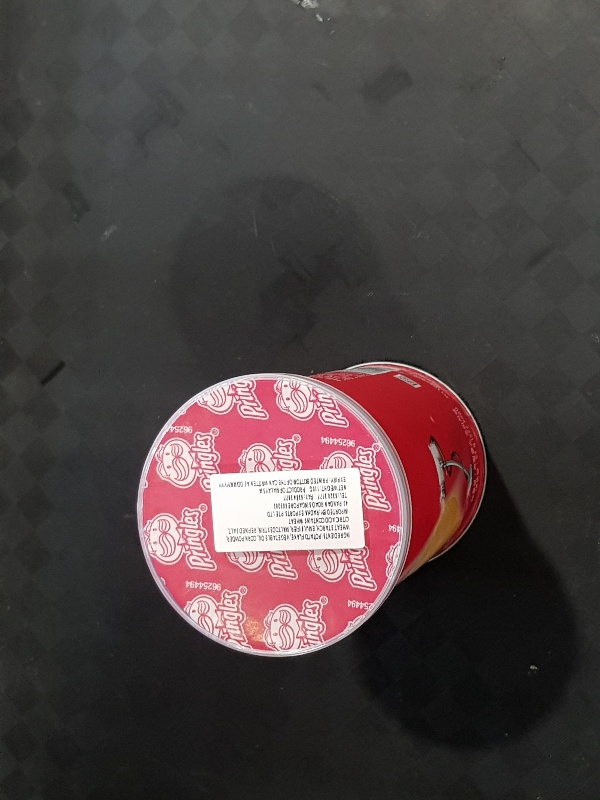Pringles Original: (136, 361, 486, 659)
